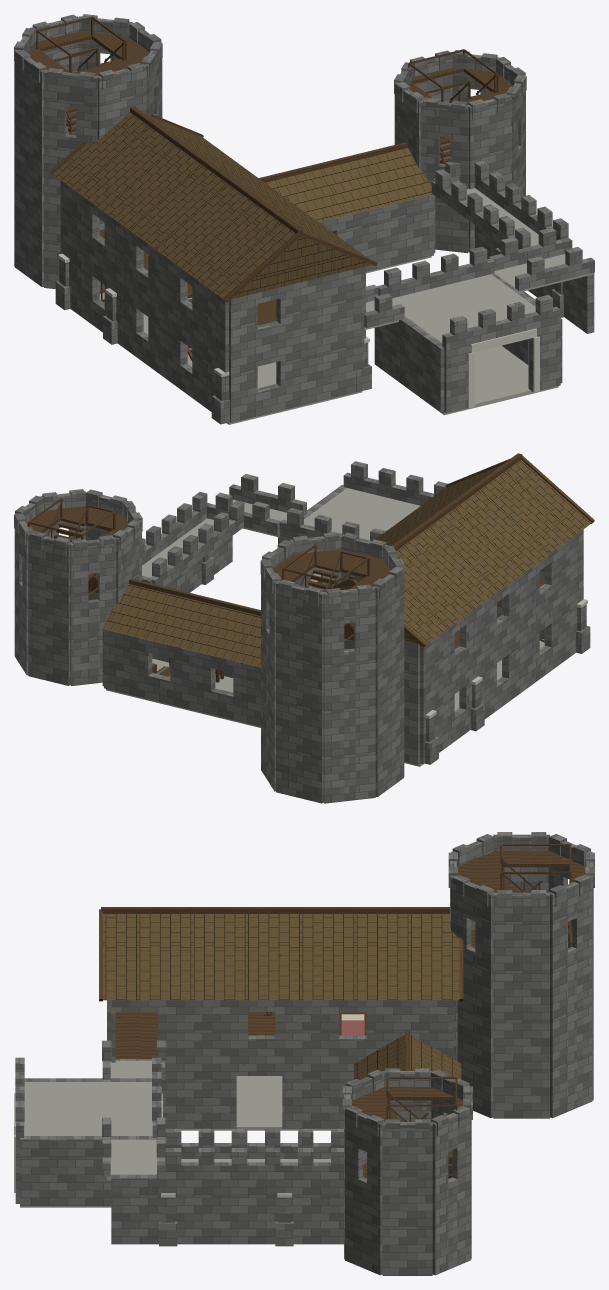
File: keep.glb
The picture shows the model from 3 angles, top to bottom: view 1: azimuth 30°, elevation 25°; view 2: azimuth 150°, elevation 25°; view 3: azimuth 270°, elevation 25°; orthographic projection. The views are drawn at different scales.
Parts seen in each view (by area): view 1: Keep_Shell_2_111, Keep_Roof_3_2, Keep_GroundFront_2_36, Keep_Upper_Wallwalk_1_36, Keep_Roof_3_48, Keep_Upper_Floor_2_4, Keep_Roof_3_6, Keep_Floor_1_5, Keep_Upper_Tower_Highwatch_Level3_Floor_1_16, Keep_Upper_Tower_Eastturret_Level2_Floor_1_16, Keep_GroundFront_2_6, Keep_Upper_Floor_2_3 (+2 smaller); view 2: Keep_Shell_2_111, Keep_Roof_3_2, Keep_Upper_Wallwalk_1_36, Keep_Roof_3_48, Keep_Upper_Floor_2_4, Keep_Roof_3_6, Keep_Upper_Tower_Highwatch_Level3_Floor_1_16, Keep_Upper_Tower_Eastturret_Level2_Floor_1_16, Keep_Floor_1_5, Keep_Tower_Highwatch_Level3_Stair_1_34, Keep_Tower_Eastturret_Level2_Stair_1_34; view 3: Keep_Shell_2_111, Keep_Roof_3_2, Keep_Upper_Shell_1_17, Keep_Upper_Wallwalk_1_36, Keep_GroundFront_2_36, Keep_Roof_3_48, Keep_Upper_Floor_2_4, Keep_Roof_3_6, Keep_Upper_Tower_Highwatch_Level3_Floor_1_16, Keep_Floor_1_5, Keep_Upper_Floor_2_3, Keep_Upper_Tower_Eastturret_Level2_Floor_1_16.
Part boxes in pixels (x1,y1,x2,y2): Keep_Shell_2_111: (14,31,594,424); Keep_Roof_3_2: (53,112,432,299); Keep_GroundFront_2_36: (229,194,560,422); Keep_Upper_Wallwalk_1_36: (364,161,594,349); Keep_Roof_3_48: (14,14,526,119); Keep_Upper_Floor_2_4: (364,188,592,343); Keep_Roof_3_6: (50,106,407,302); Keep_Floor_1_5: (99,252,558,424); Keep_Upper_Tower_Highwatch_Level3_Floor_1_16: (28,16,149,75); Keep_Upper_Tower_Eastturret_Level2_Floor_1_16: (408,49,513,104); Keep_GroundFront_2_6: (468,328,539,408); Keep_Upper_Floor_2_3: (99,229,276,325); Keep_Shell_2_111: (14,485,590,803); Keep_Roof_3_2: (102,459,591,667); Keep_Upper_Wallwalk_1_36: (142,461,447,585); Keep_Roof_3_48: (14,489,404,606); Keep_Upper_Floor_2_4: (142,488,420,585); Keep_Roof_3_6: (129,453,594,647); Keep_Upper_Tower_Highwatch_Level3_Floor_1_16: (273,544,390,589); Keep_Upper_Tower_Eastturret_Level2_Floor_1_16: (26,498,128,539); Keep_Floor_1_5: (70,573,544,802); Keep_Tower_Highwatch_Level3_Stair_1_34: (299,545,353,638); Keep_Tower_Eastturret_Level2_Stair_1_34: (46,499,97,590); Keep_Shell_2_111: (20,850,593,1275); Keep_Roof_3_2: (103,914,461,1114); Keep_Upper_Shell_1_17: (111,1000,453,1062); Keep_Upper_Wallwalk_1_36: (15,1040,343,1178); Keep_GroundFront_2_36: (15,1000,355,1203); Keep_Roof_3_48: (342,832,594,1137); Keep_Upper_Floor_2_4: (24,1060,330,1180); Keep_Roof_3_6: (99,907,463,1070); Keep_Upper_Tower_Highwatch_Level3_Floor_1_16: (458,844,585,892); Keep_Floor_1_5: (20,1076,550,1274); Keep_Upper_Floor_2_3: (115,1012,366,1058); Keep_Upper_Tower_Eastturret_Level2_Floor_1_16: (352,1077,463,1121).
Size of the model in its own units: 23.01 by 11.32 by 25.48.
Materials: 9 (3 with a texture image).
